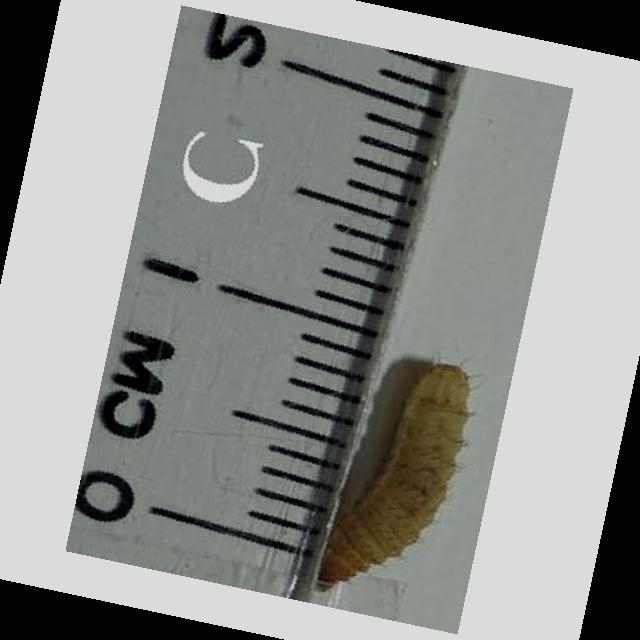Maggot: (316, 358, 477, 595)
